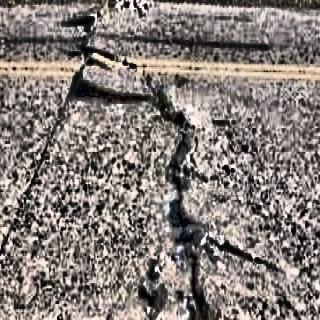pothole: (66, 12, 196, 126), (167, 118, 220, 320)
